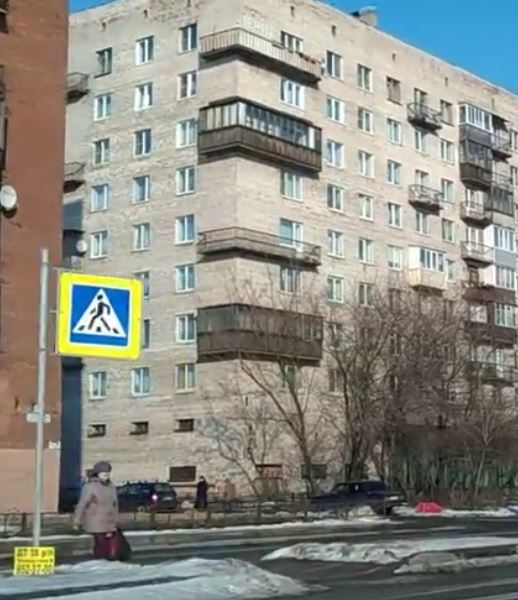Yaya Gecidi: (70, 284, 133, 349)
